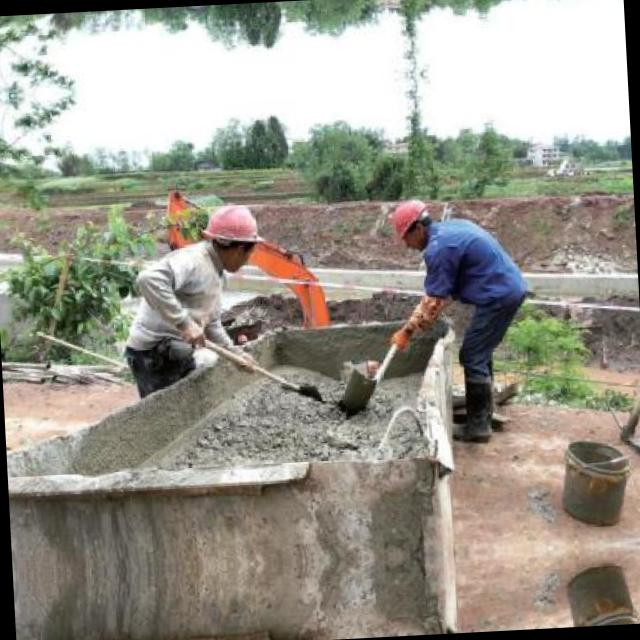helmet: (198, 198, 268, 274), (387, 198, 434, 246)
